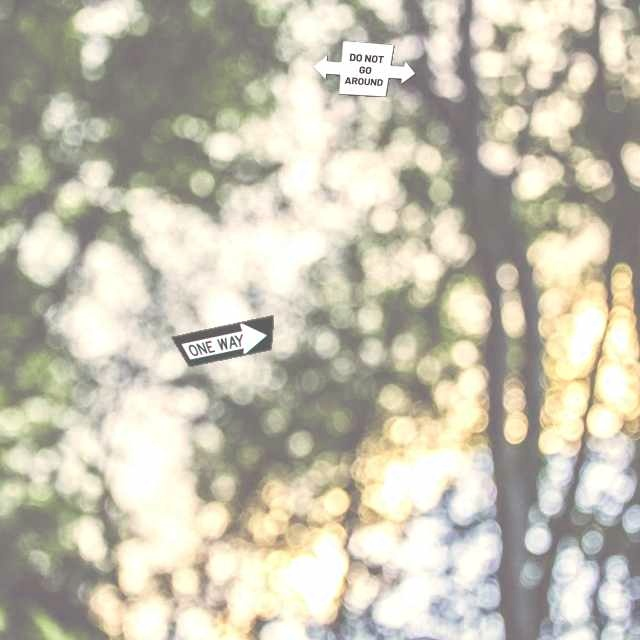DO_NOT_GO_AROUND: (312, 40, 416, 97)
ONE_WAY_ right: (170, 314, 274, 367)
